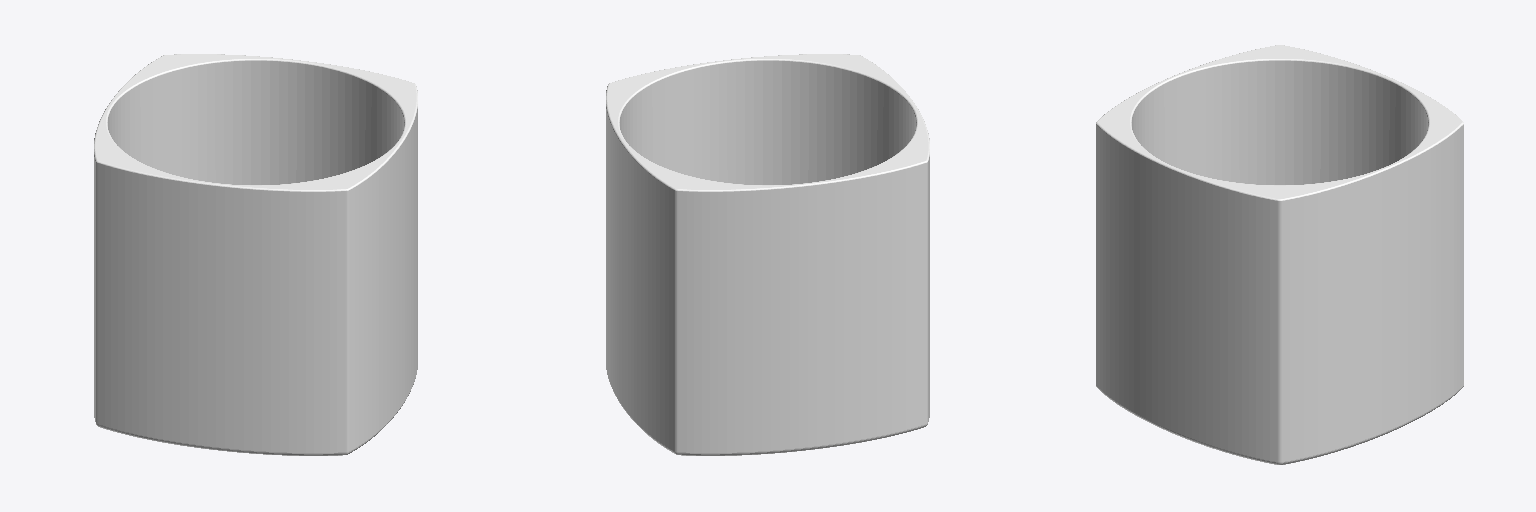
Rendered from glass.obj.
The picture shows the model from 3 angles: view 1: azimuth 30°, elevation 25°; view 2: azimuth 150°, elevation 25°; view 3: azimuth 270°, elevation 25°; orthographic projection.
Visible parts, largest first — view 1: cup.001; view 2: cup.001; view 3: cup.001.
Boxes of the visible parts, <box> form: cup.001: <box>94,54,417,455</box>; cup.001: <box>606,54,929,455</box>; cup.001: <box>1096,45,1463,464</box>.
Size of the model in its own units: 1.99 by 1.6 by 1.99.